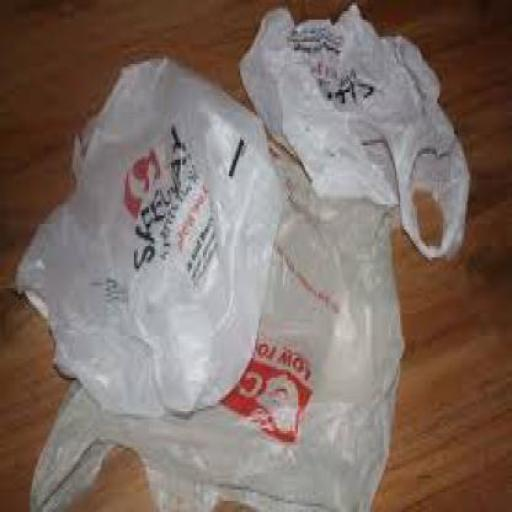plastic: (28, 132, 404, 510), (9, 54, 289, 414), (236, 0, 468, 255)
